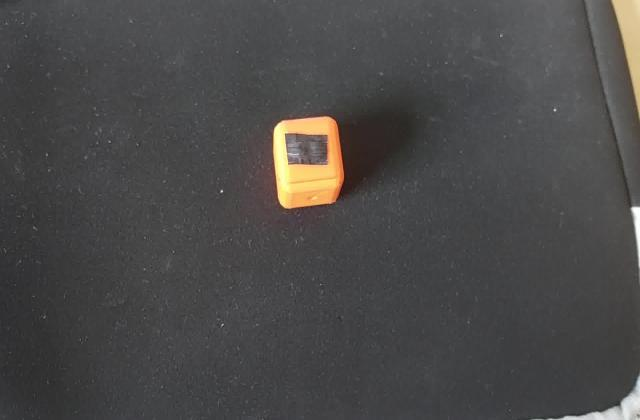black: (280, 129, 334, 172)
sticker: (268, 111, 350, 214)
